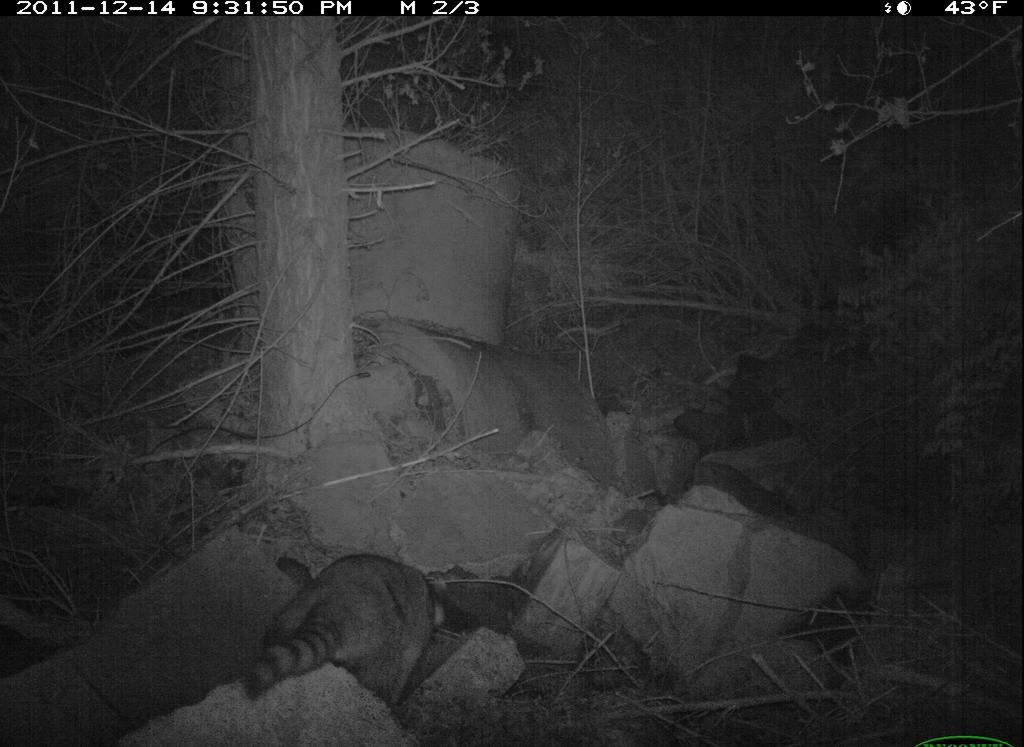raccoon: (246, 547, 479, 720)
